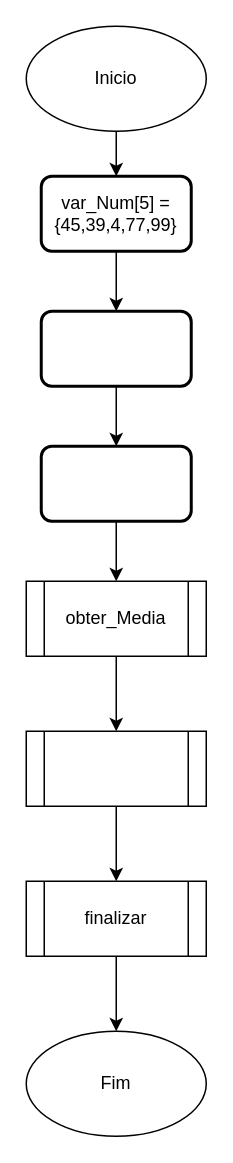
This 233x1163 diagram has some shape labels left out. The box of each missing label's shape, as (x1, y1, x2, y2) in pixels:
contador = 0: (39, 444, 192, 522)
media = 0: (39, 309, 192, 387)
valores_Maiores: (25, 730, 206, 806)
